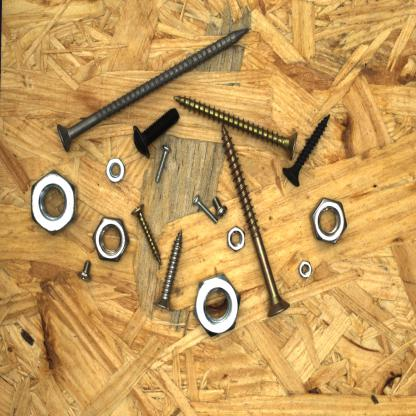screw: (51, 25, 252, 156), (218, 118, 294, 320), (170, 92, 302, 163), (278, 110, 333, 191), (125, 104, 183, 160), (151, 226, 186, 314), (129, 201, 167, 268), (190, 191, 221, 228), (152, 141, 175, 187), (209, 193, 231, 222), (76, 257, 95, 285)
